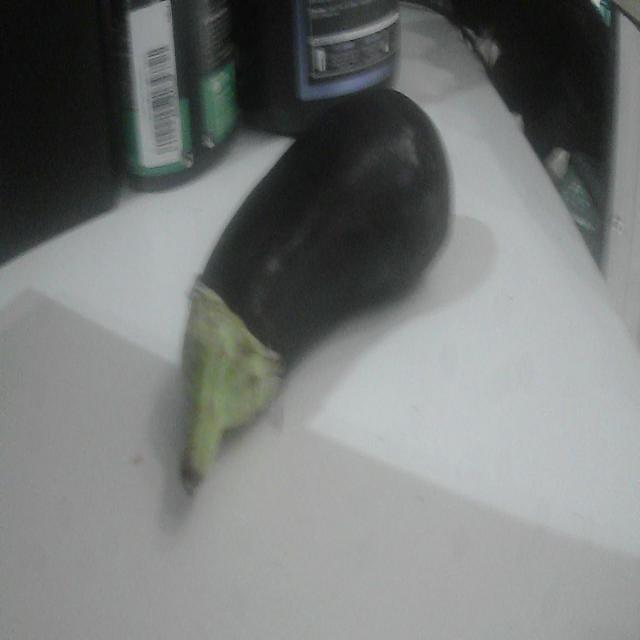Eggplant: (182, 90, 451, 486)
